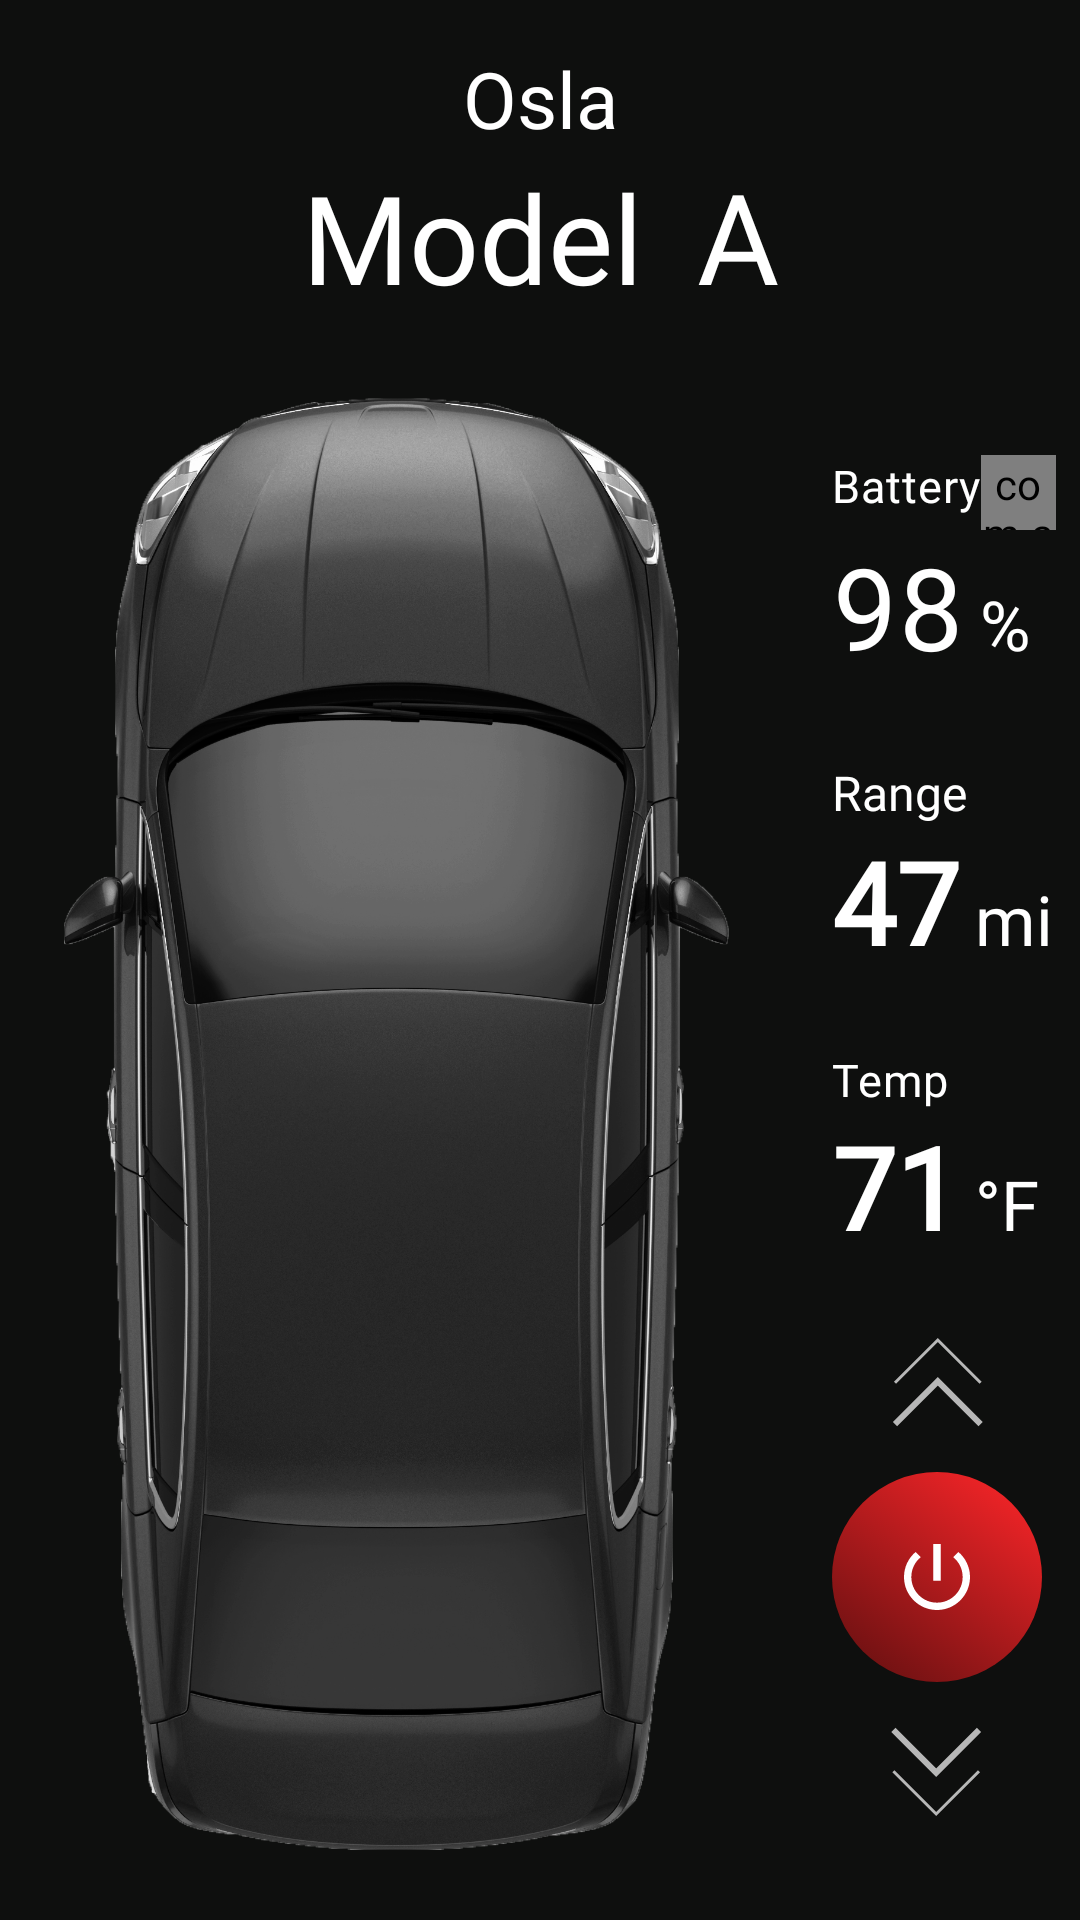

Screen size 1080×1920. Icon name, then its center in pixels as (x,y):
arrow down: (936,1772)
arrow up: (938,1382)
circle: (937,1577)
